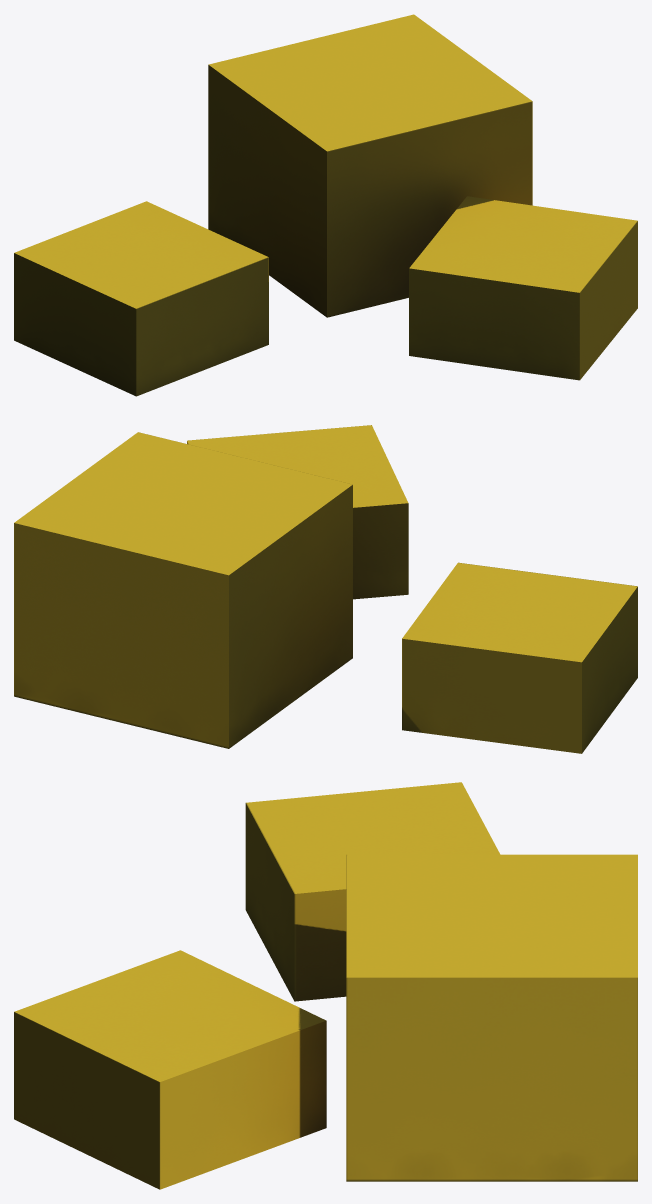
The model's file is wujian_03.fbx.
The picture shows the model from 3 angles, top to bottom: view 1: azimuth 30°, elevation 25°; view 2: azimuth 150°, elevation 25°; view 3: azimuth 270°, elevation 25°; orthographic projection. The views are drawn at different scales.
Visible parts, largest first — view 1: wujian_03; view 2: wujian_03; view 3: wujian_03.
Boxes of the visible parts, <box> form: wujian_03: <box>14,14,637,396</box>; wujian_03: <box>14,425,637,753</box>; wujian_03: <box>14,782,637,1189</box>.
Size of the model in its own units: 7.93 by 2.51 by 6.97.
1 material, 1 textured.
